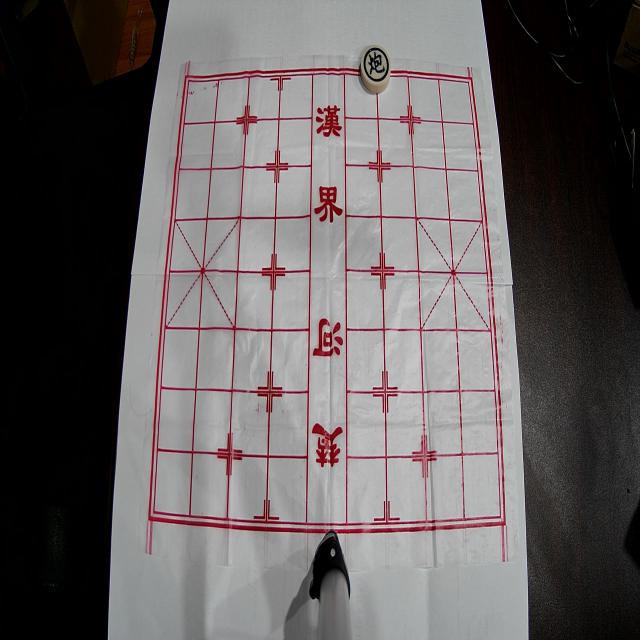black-cannon: (361, 44, 391, 94)
